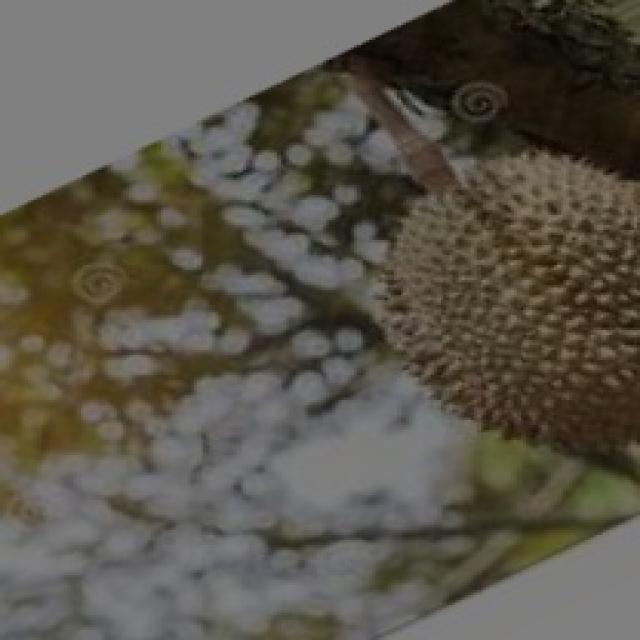fruit: (341, 122, 640, 505)
